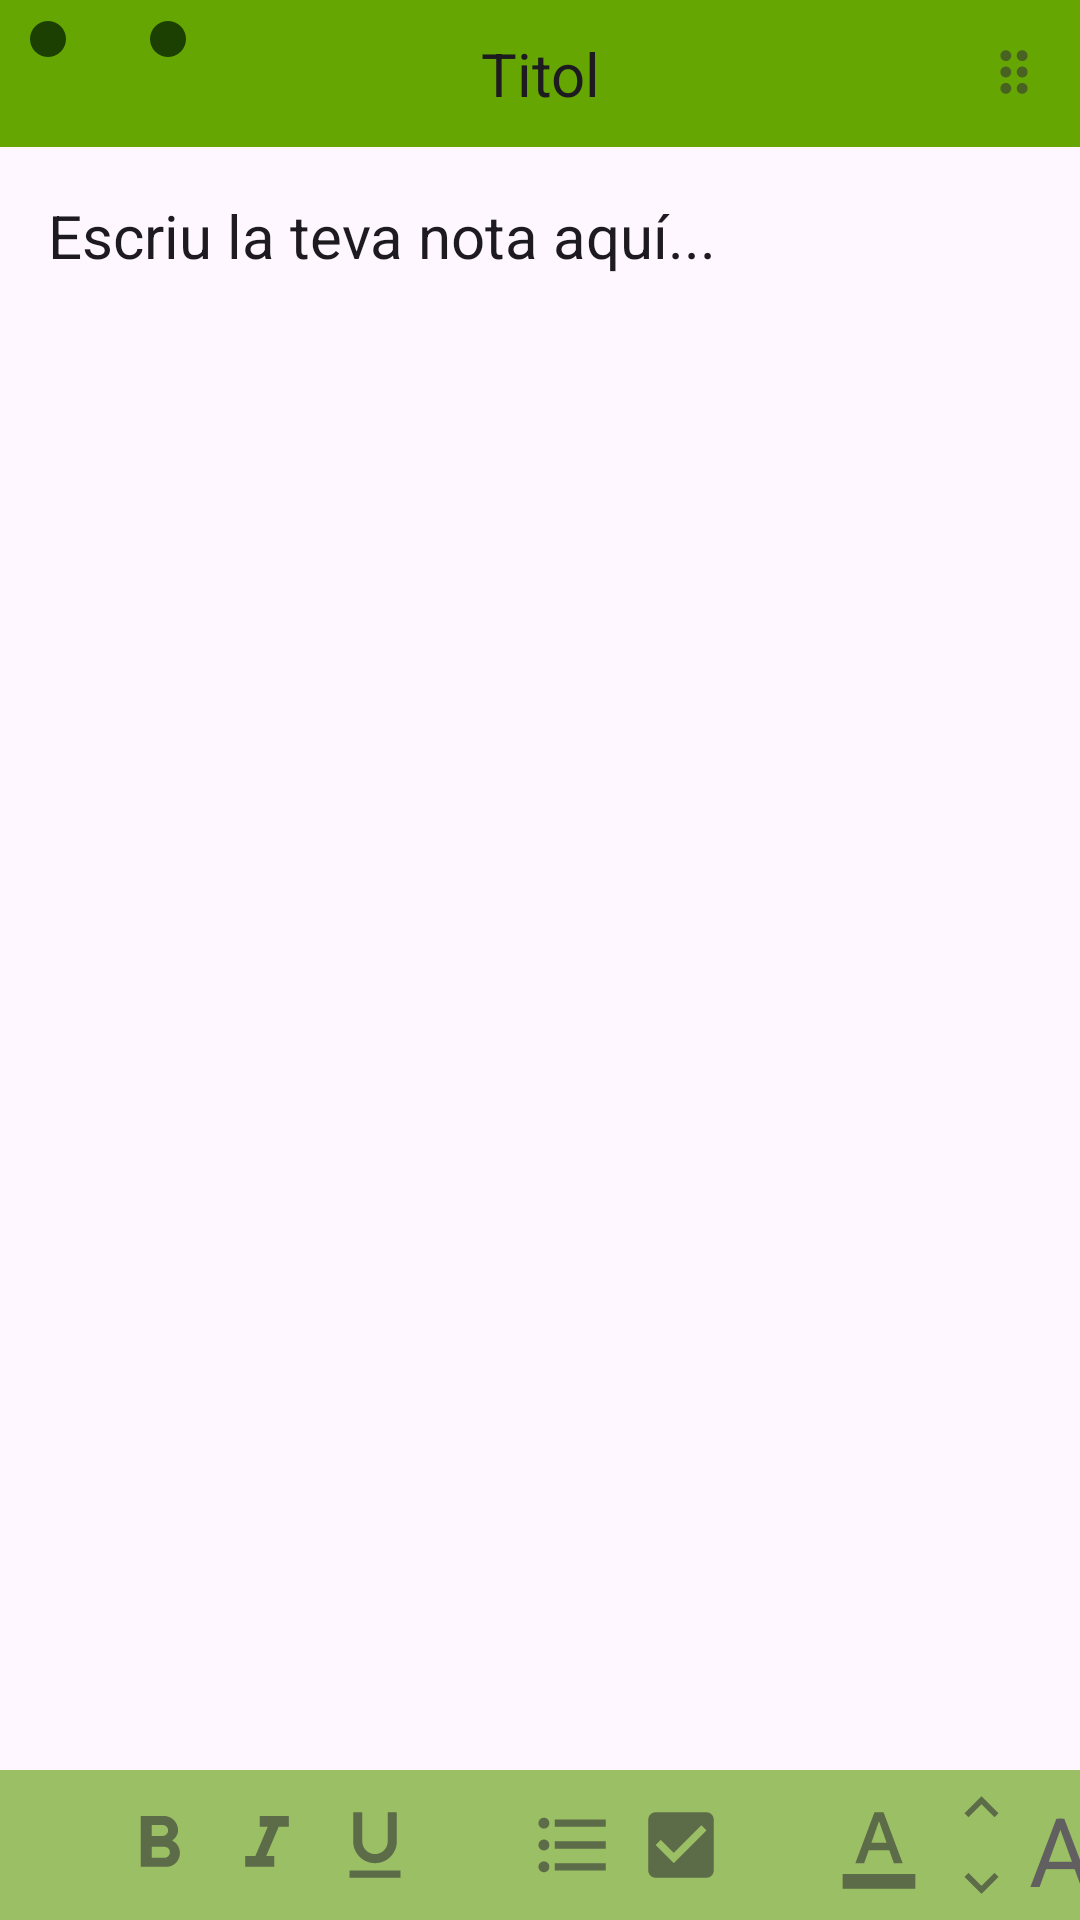

Icons on this 1080px×1920px Android screen, each with its box as (x1, y1, x2, y2):
checkbox: (648, 1812, 714, 1878)
fbaix: (965, 1873, 998, 1894)
fdalt: (965, 1796, 998, 1817)
italic: (245, 1816, 289, 1867)
list: (538, 1818, 606, 1872)
menu: (1000, 50, 1028, 94)
underline: (349, 1812, 401, 1878)
